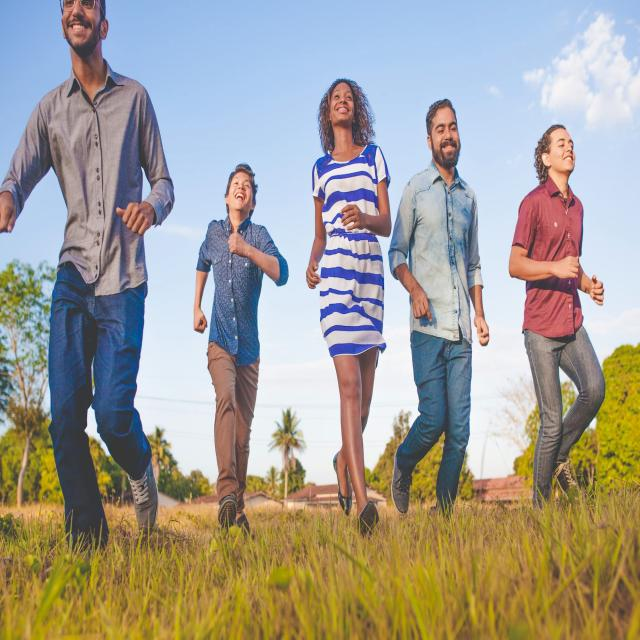adult: (0, 0, 176, 543), (392, 98, 493, 520), (307, 77, 393, 532), (507, 124, 607, 508), (191, 160, 291, 529)
